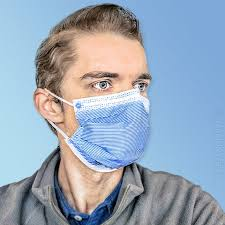mask: (48, 16, 158, 167)
